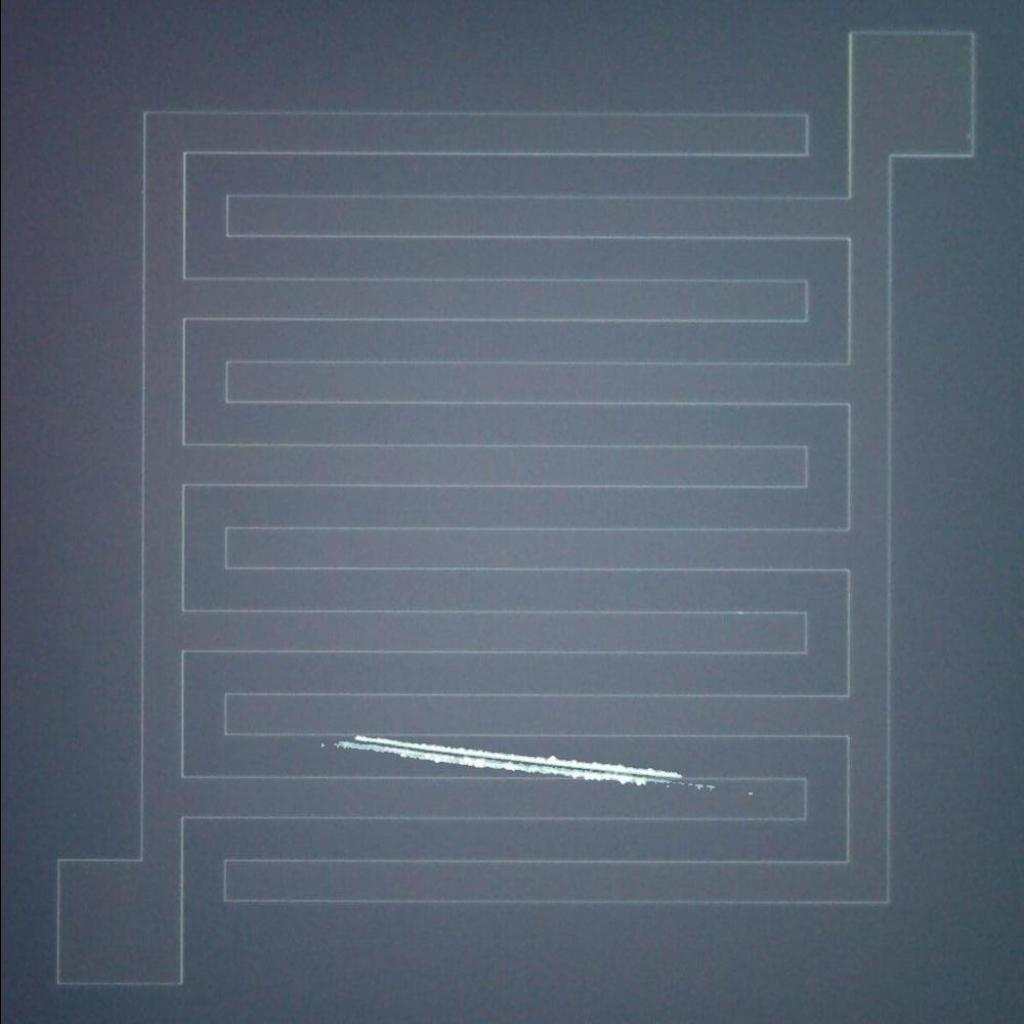scratch: (319, 724, 721, 795)
